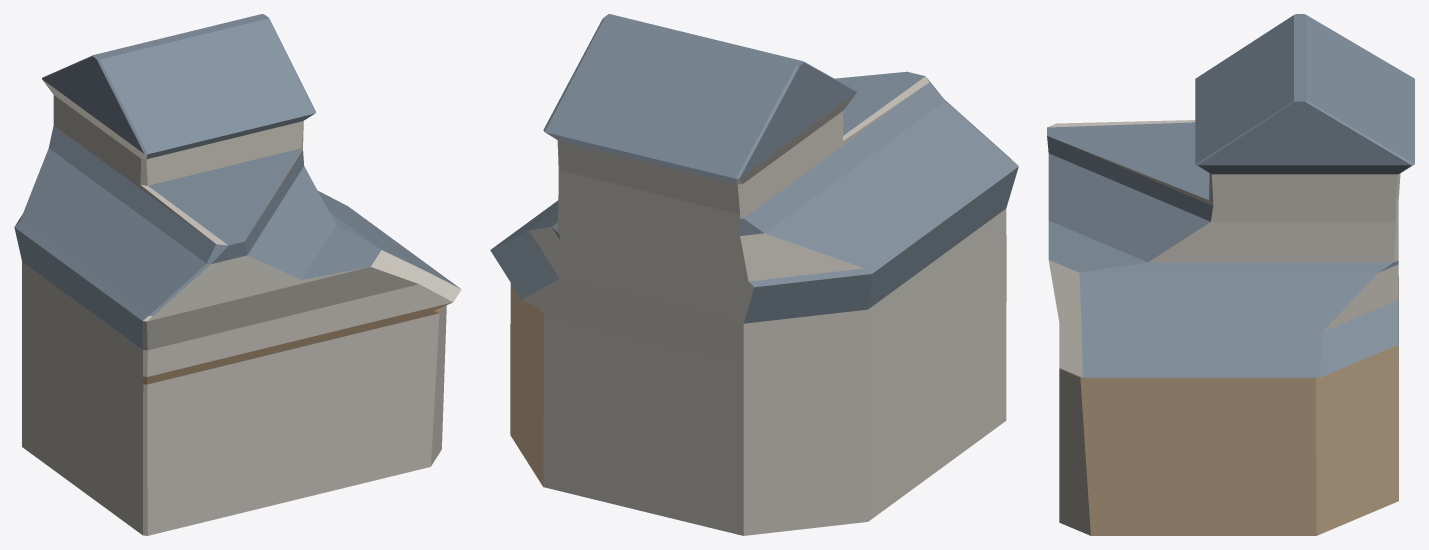
The model's file is loin.glb.
3 views of the same model, side by side, from view 1: azimuth 30°, elevation 25°; view 2: azimuth 150°, elevation 25°; view 3: azimuth 270°, elevation 25° (orthographic). The views are drawn at different scales.
Parts seen in each view (by area): view 1: loin; view 2: loin; view 3: loin.
Part boxes in pixels (x1,y1,x2,y2): loin: (14, 14, 461, 535); loin: (490, 14, 1018, 535); loin: (1047, 14, 1414, 535).
Bounding box in the file's own units: 0.8719 × 0.9451 × 0.7961.
